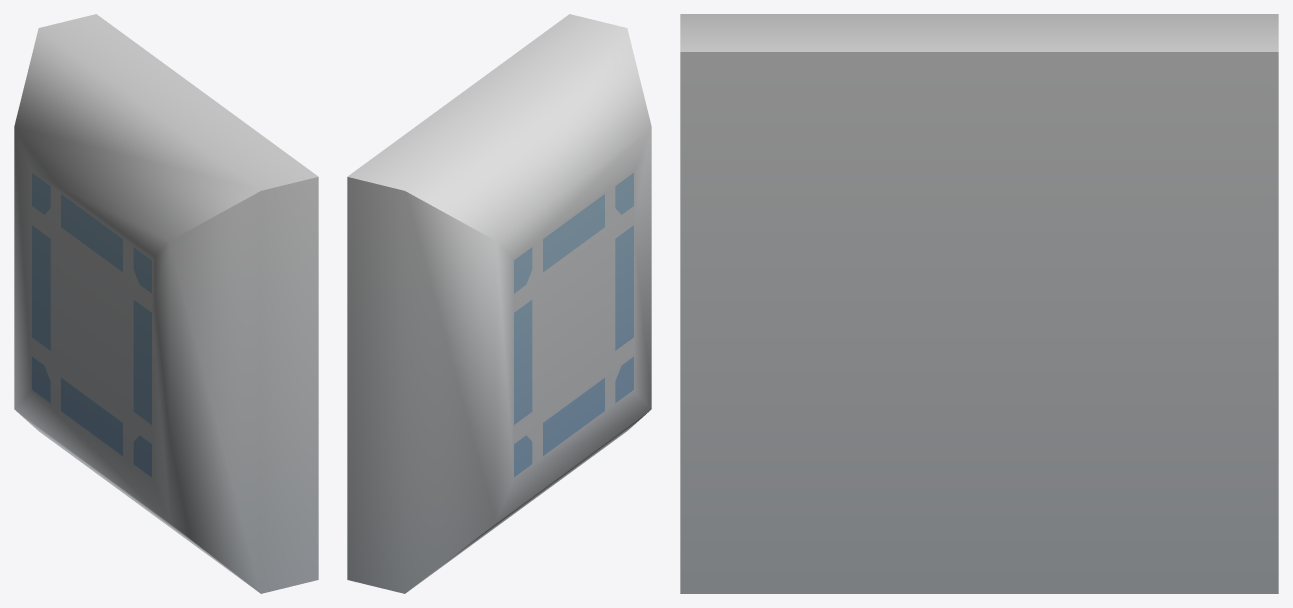
The model's file is wall-small-tile-border (%wall).glb.
3 renders of one model, left to right at view 1: azimuth 30°, elevation 25°; view 2: azimuth 150°, elevation 25°; view 3: azimuth 270°, elevation 25°, orthographic. The views are drawn at different scales.
Visible parts, largest first — view 1: wall-small-tile-border (%wall); view 2: wall-small-tile-border (%wall); view 3: wall-small-tile-border (%wall).
Part boxes in pixels (bbox=[...]): wall-small-tile-border (%wall): bbox=[14, 14, 318, 593]; wall-small-tile-border (%wall): bbox=[347, 14, 651, 593]; wall-small-tile-border (%wall): bbox=[680, 14, 1278, 593].
Bounding box in the file's own units: 0.05 × 0.1667 × 0.1667.
